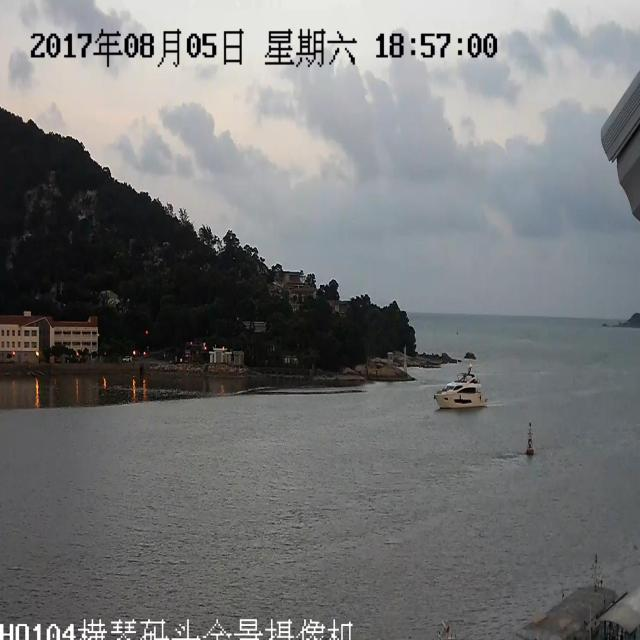buoy: (523, 410, 542, 467)
passenger ship: (430, 370, 486, 423)
reef: (607, 304, 640, 348)
